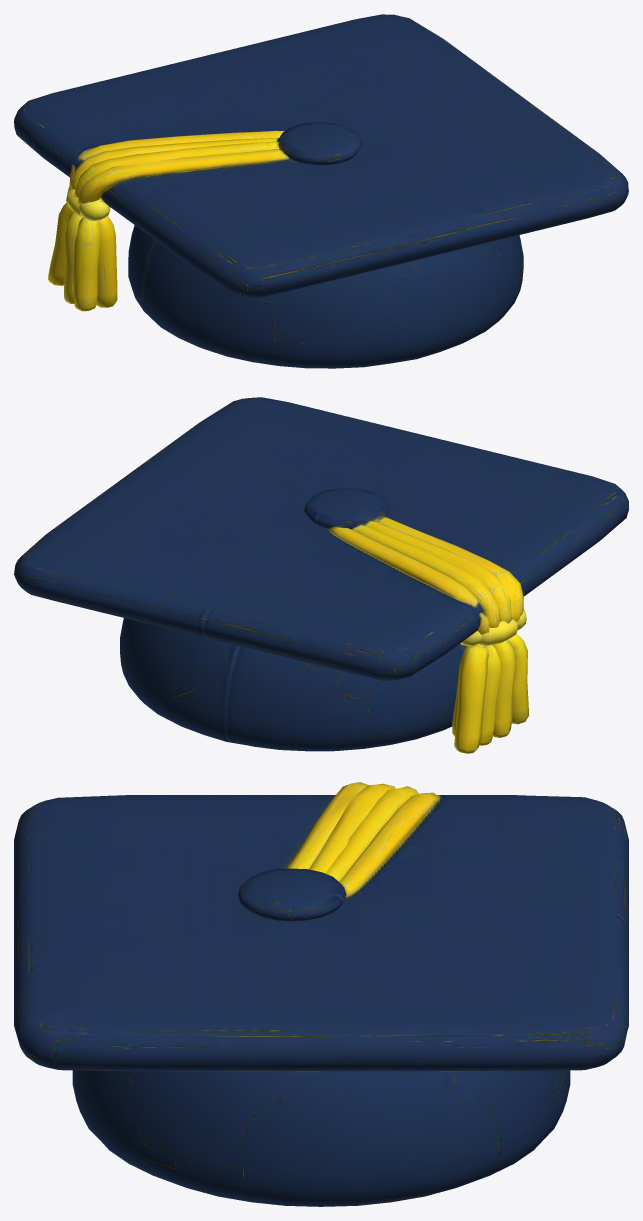
The model's file is grad-cap.b08a632c.glb.
The picture shows the model from 3 angles, top to bottom: view 1: azimuth 30°, elevation 25°; view 2: azimuth 150°, elevation 25°; view 3: azimuth 270°, elevation 25°; orthographic projection. The views are drawn at different scales.
Parts seen in each view (by area): view 1: tripo_node_5bd1c38a-8667-49b0-aa9d-77ae4febff1c; view 2: tripo_node_5bd1c38a-8667-49b0-aa9d-77ae4febff1c; view 3: tripo_node_5bd1c38a-8667-49b0-aa9d-77ae4febff1c.
Part boxes in pixels (left/top/right/bottom): tripo_node_5bd1c38a-8667-49b0-aa9d-77ae4febff1c: left=14, top=14, right=628, bottom=368; tripo_node_5bd1c38a-8667-49b0-aa9d-77ae4febff1c: left=14, top=397, right=628, bottom=753; tripo_node_5bd1c38a-8667-49b0-aa9d-77ae4febff1c: left=14, top=782, right=628, bottom=1206.
Size of the model in its own units: 0.998 by 0.3821 by 0.9825.
Materials: 1 (1 with a texture image).
